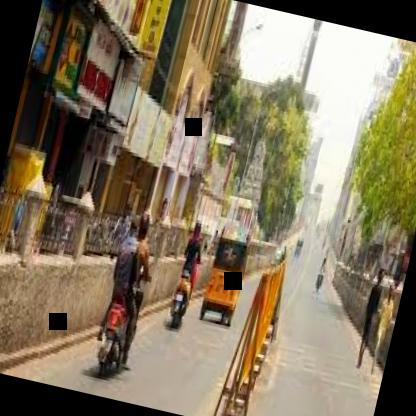car: (88, 199, 167, 380), (192, 186, 267, 335), (158, 210, 214, 340)
